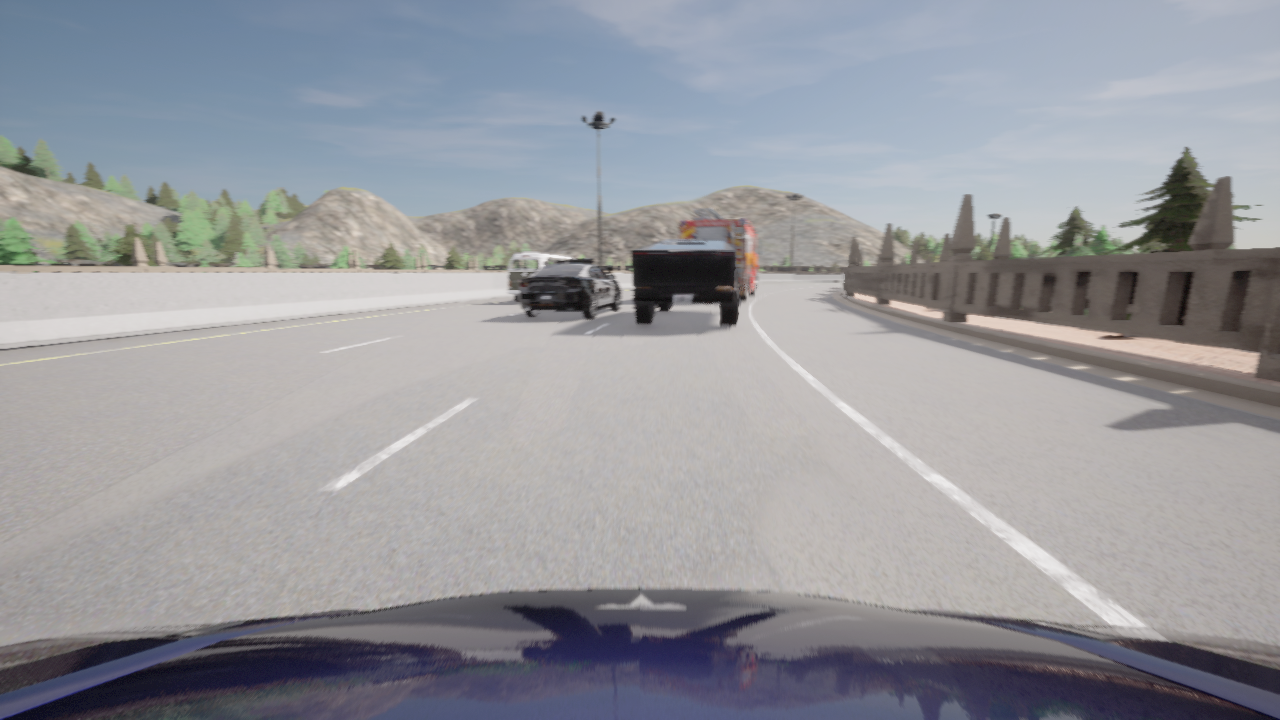cyclist: (0, 588, 1279, 719), (632, 240, 739, 326), (678, 208, 763, 300), (519, 258, 620, 318), (506, 252, 574, 302)
